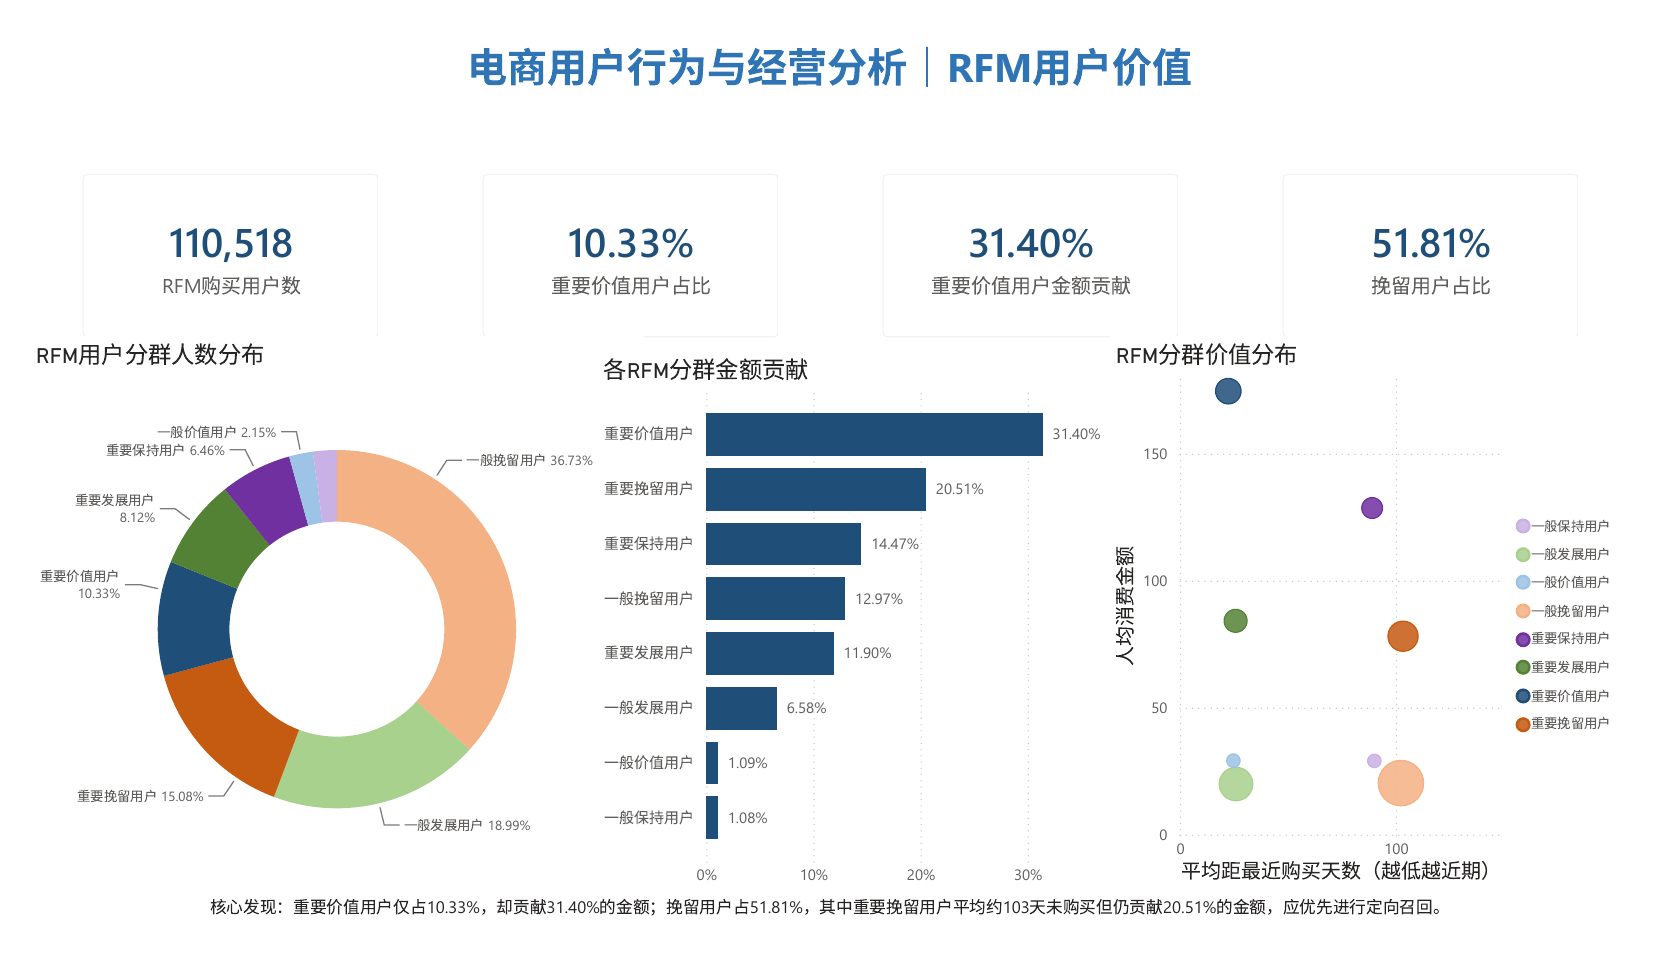

This screenshot's page, from the dashboard's own definition file:
{"tool":"powerbi","page":{"name":"RFM用户价值","canvas":[1280,720],"ordinal":2},"visuals":[{"type":"textbox","box":[0,0,1280.3,70],"z":0},{"type":"cardVisual","fields":{"Data":["rfm_segment_summary.RFM购买用户数显示"]},"box":[24.8,97.9,271.5,164.9],"z":1},{"type":"cardVisual","fields":{"Data":["rfm_segment_summary.重要价值用户占比"]},"box":[344.7,97.9,271.5,164.9],"z":2},{"type":"cardVisual","fields":{"Data":["rfm_segment_summary.重要价值用户金额贡献"]},"box":[664.6,97.9,271.6,164.9],"z":3},{"type":"cardVisual","fields":{"Data":["rfm_segment_summary.挽留用户占比"]},"box":[984.6,97.9,271.6,164.9],"z":4},{"type":"donutChart","title":"RFM用户分群人数分布","fields":{"Category":["rfm_segment_summary.customer_segment"],"Y":["Sum(rfm_segment_summary.user_count)"]},"box":[0,245.4,490.9,449.9],"z":5},{"type":"clusteredBarChart","title":"各RFM分群金额贡献","fields":{"Category":["rfm_segment_summary.customer_segment"],"Y":["rfm_segment_summary.分群金额贡献率"]},"box":[453.7,256.6,420.2,438.8],"z":6},{"type":"scatterChart","title":"RFM分群价值分布","fields":{"X":["Sum(rfm_segment_summary.avg_recency_days)"],"Y":["Sum(rfm_segment_summary.avg_monetary_value)"],"Size":["Sum(rfm_segment_summary.user_count)"],"Series":["rfm_segment_summary.customer_segment"]},"box":[864,245,416,442],"z":7},{"type":"textbox","box":[0,687,1280,33],"z":8}]}

Visuals, with their boxes in screenshot pixels (x1, y1, x2, y2), scaled from the page's 1280x720 canvas onto the 1660x960 screenshot:
textbox: rect(0, 0, 1659, 93)
cardVisual - rfm_segment_summary.RFM购买用户数显示: rect(32, 131, 384, 350)
cardVisual - rfm_segment_summary.重要价值用户占比: rect(447, 131, 799, 350)
cardVisual - rfm_segment_summary.重要价值用户金额贡献: rect(862, 131, 1214, 350)
cardVisual - rfm_segment_summary.挽留用户占比: rect(1277, 131, 1629, 350)
"RFM用户分群人数分布" donutChart: rect(0, 327, 637, 927)
"各RFM分群金额贡献" clusteredBarChart: rect(588, 342, 1133, 927)
"RFM分群价值分布" scatterChart: rect(1120, 327, 1659, 916)
textbox: rect(0, 916, 1659, 959)
